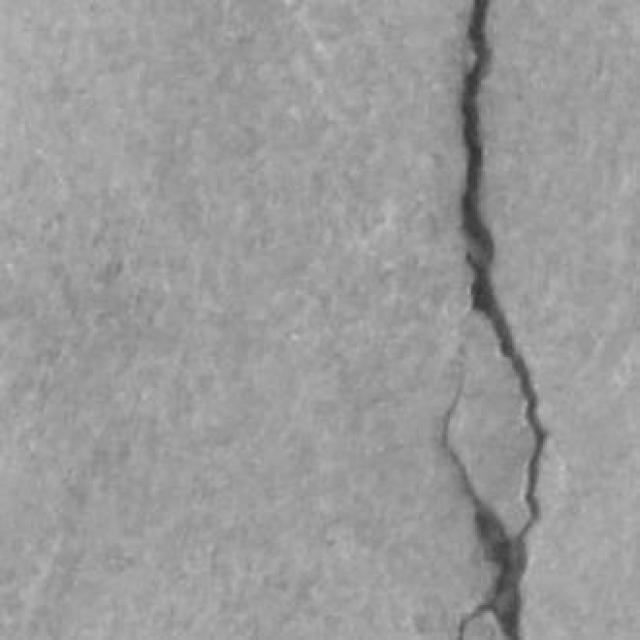crack: (448, 0, 546, 639), (443, 377, 525, 639)
